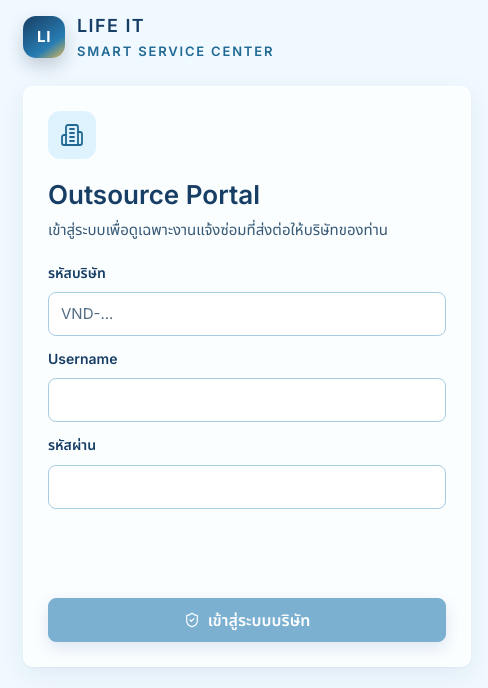
Test: VendorPortalPage › passes Turnstile to the password-verifying broker request before showing the MFA step
The width and height of the screenshot is (488, 688).
Type "VND-001" into the field labelled "รหัสบริษัท" at (247, 314), box [48,292,446,336]
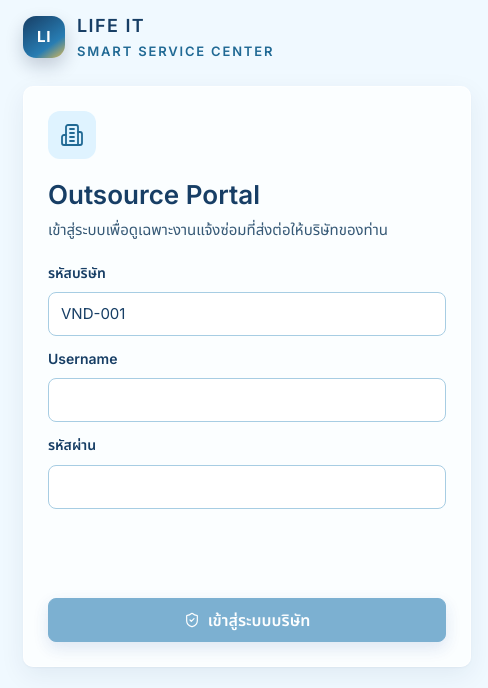
Type "vendor.contact" into the field labelled "Username" at (247, 400), box [48,378,446,422]
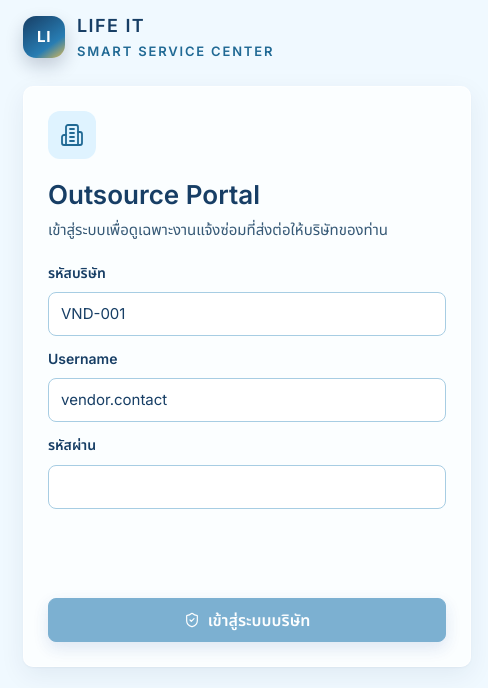
Type "secret-password" into the password field labelled "รหัสผ่าน" at (247, 487), box [48,465,446,509]
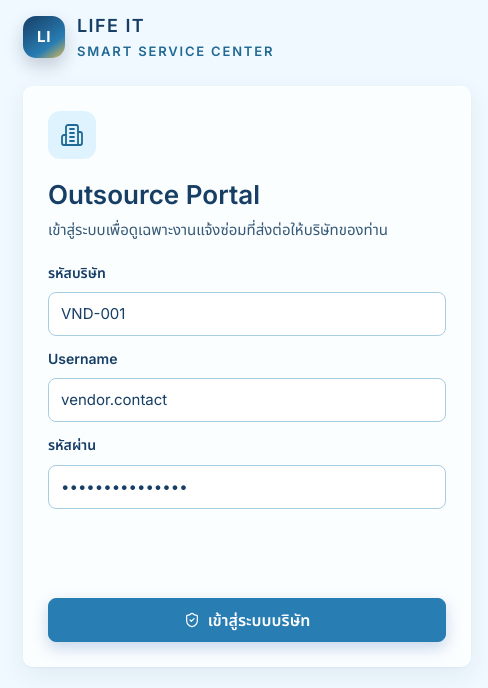
Check: the button "เข้าสู่ระบบบริษัท" is enabled
Click the button "เข้าสู่ระบบบริษัท" at (247, 620), box [48,598,446,642]
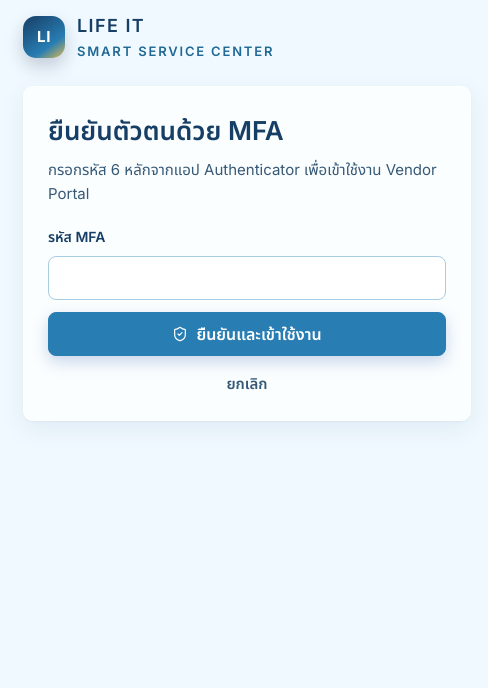
Check: the heading "ยืนยันตัวตนด้วย MFA" is shown, box [48,115,284,146]
